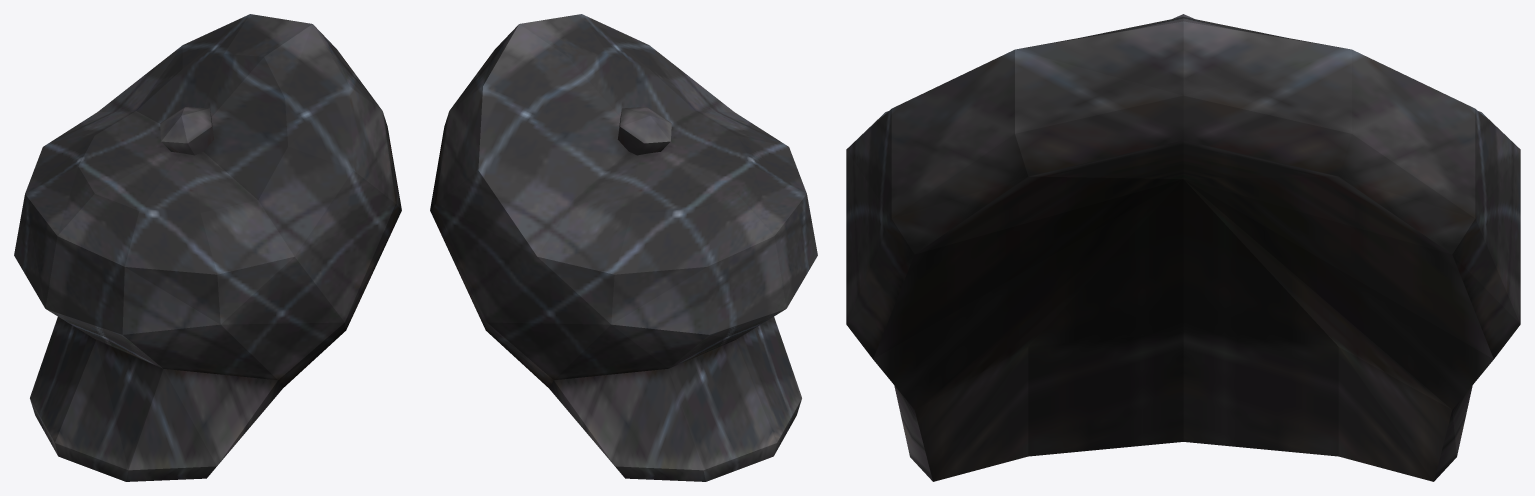
The model's file is Wolf_butlerCap.obj.
3 views of the same model, side by side, from view 1: azimuth 30°, elevation 25°; view 2: azimuth 150°, elevation 25°; view 3: azimuth 270°, elevation 25° (orthographic). The views are drawn at different scales.
Visible parts, largest first — view 1: Wolf_butlerCap_tri; view 2: Wolf_butlerCap_tri; view 3: Wolf_butlerCap_tri.
Part boxes in pixels (left/top/right/bottom): Wolf_butlerCap_tri: left=14, top=14, right=401, bottom=481; Wolf_butlerCap_tri: left=430, top=14, right=817, bottom=481; Wolf_butlerCap_tri: left=846, top=14, right=1520, bottom=481.
Bounding box in the file's own units: 0.1913 × 0.2259 × 0.2182.
1 material, 1 textured.
